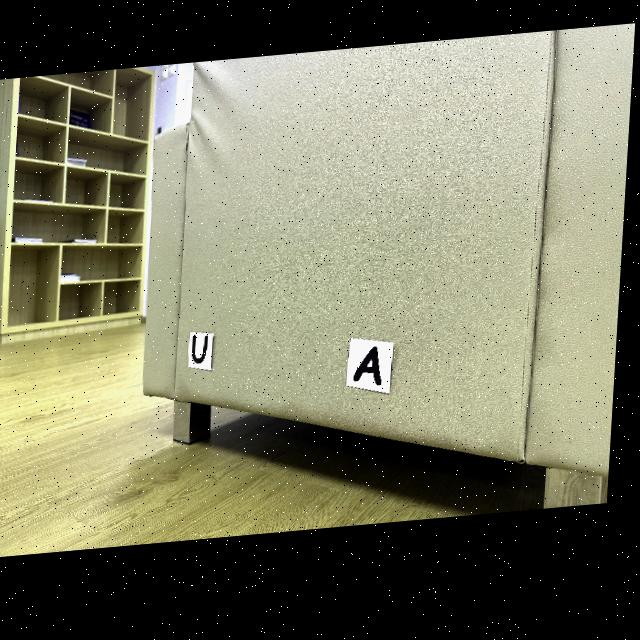A: (359, 354, 388, 393)
U: (197, 339, 213, 368)
